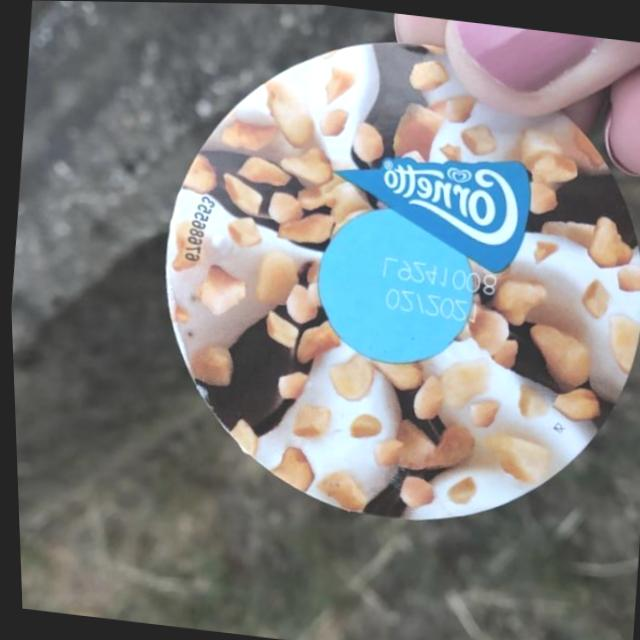Paper: (123, 4, 640, 547)
